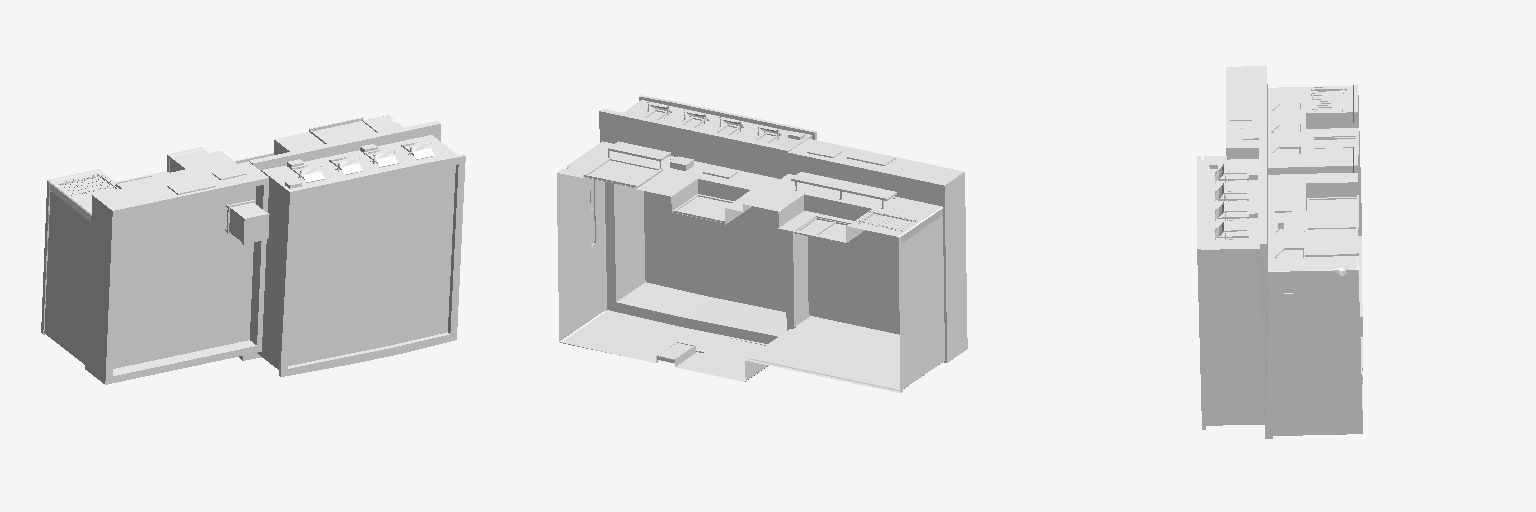
File: house2.obj
The picture shows the model from 3 angles: view 1: azimuth 30°, elevation 25°; view 2: azimuth 150°, elevation 25°; view 3: azimuth 270°, elevation 25°; orthographic projection.
Visible parts, largest first — view 1: House2_001; view 2: House2_001; view 3: House2_001.
Part boxes in pixels (left/top/right/bottom): House2_001: left=41, top=115, right=465, bottom=384; House2_001: left=557, top=95, right=967, bottom=392; House2_001: left=1197, top=66, right=1362, bottom=438.
Size of the model in its own units: 17.36 by 10.13 by 7.14.